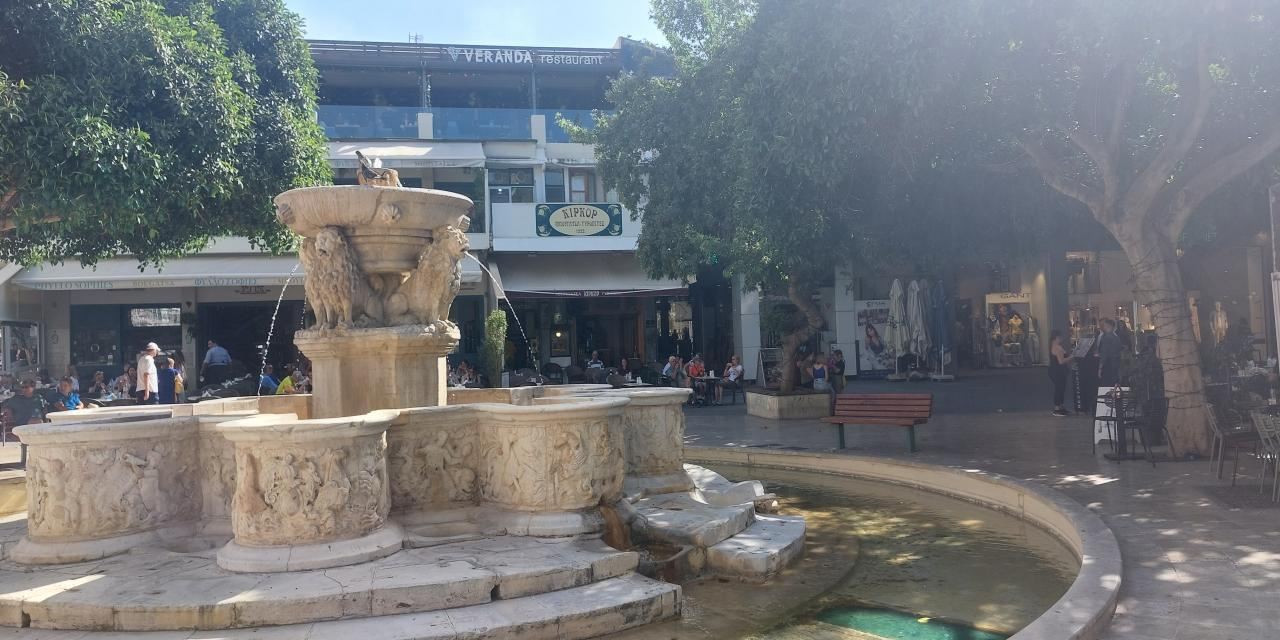Liontaria: (17, 177, 692, 563)
